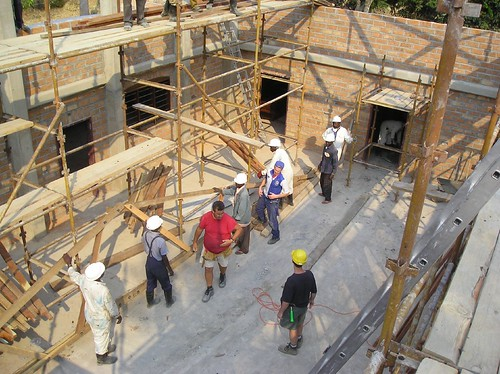person hardhat: (60, 252, 127, 363), (279, 249, 321, 358), (139, 214, 179, 308), (266, 138, 302, 208), (323, 113, 353, 194), (230, 173, 253, 263), (316, 129, 338, 205)
